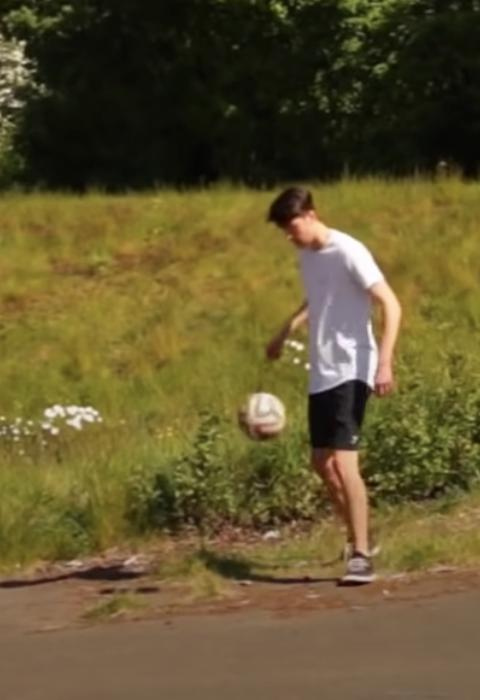ball: (239, 392, 287, 440)
foot: (341, 550, 375, 585)
person: (263, 188, 398, 584)
